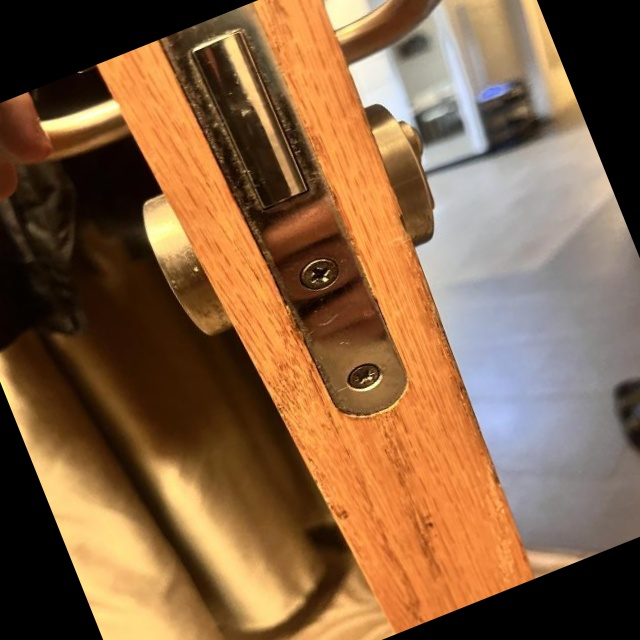phillips: (295, 253, 344, 296)
pozidriv: (344, 360, 384, 393)
